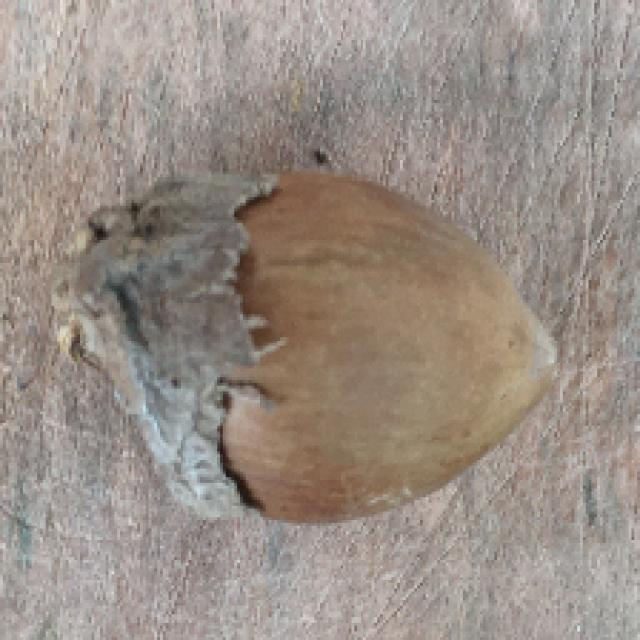damagedHazelnut: (44, 154, 562, 537)
